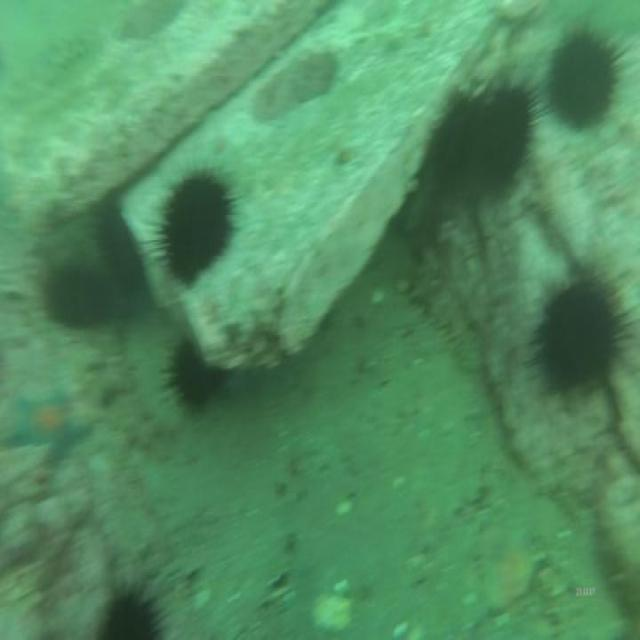echinus: (523, 262, 640, 404), (136, 163, 244, 286), (540, 16, 634, 134), (481, 82, 549, 191), (156, 326, 233, 418), (84, 190, 146, 304), (430, 71, 484, 201), (39, 246, 116, 334), (94, 573, 170, 640)
starfish: (4, 374, 95, 470)
